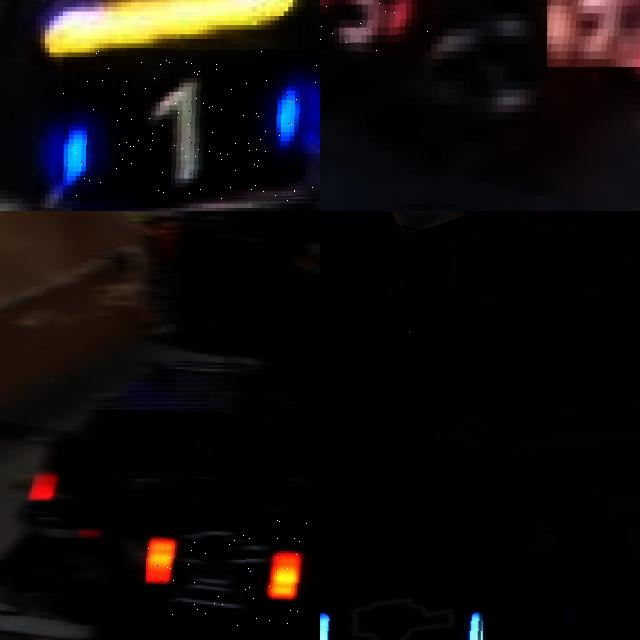B1: (63, 50, 320, 201)
Bs: (320, 587, 486, 640)
R5: (547, 0, 640, 66), (320, 0, 431, 51)
Rs: (146, 520, 307, 628)
